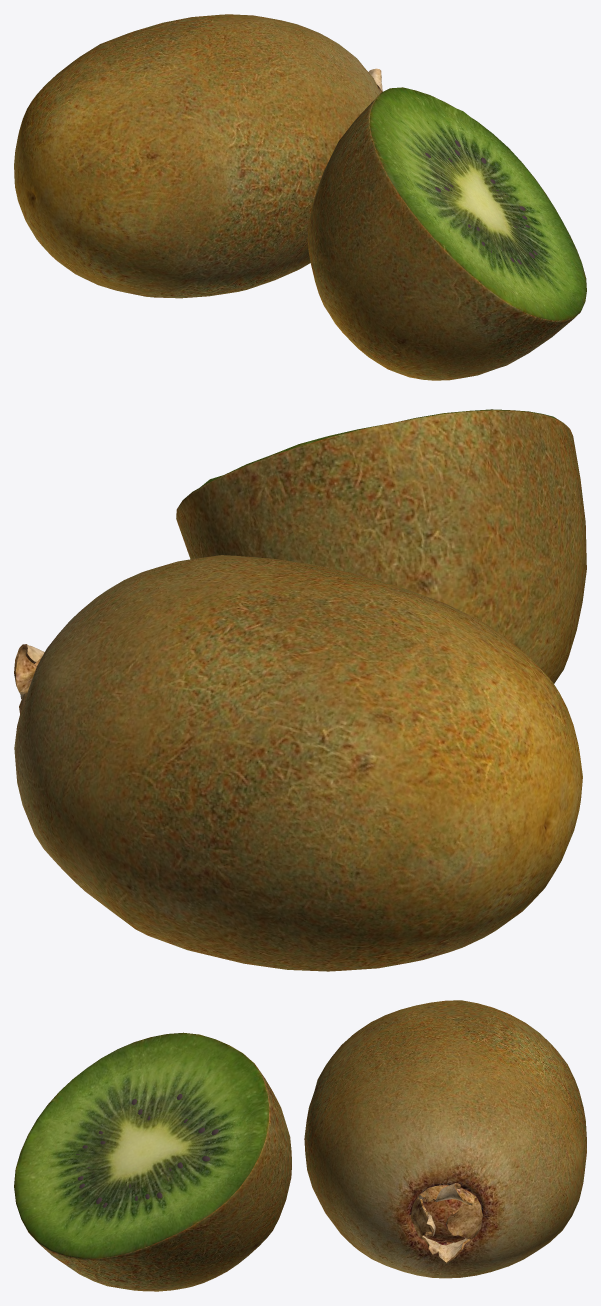
3 renders of one model, top to bottom at view 1: azimuth 30°, elevation 25°; view 2: azimuth 150°, elevation 25°; view 3: azimuth 270°, elevation 25°, orthographic. The views are drawn at different scales.
Parts seen in each view (by area): view 1: a4; view 2: a4; view 3: a4.
Boxes of the visible parts, <box> form: a4: <box>14,14,586,380</box>; a4: <box>14,409,586,971</box>; a4: <box>14,1000,586,1291</box>.
Bounding box in the file's own units: 0.1726 × 0.1085 × 0.2444.
2 materials, 1 textured.
